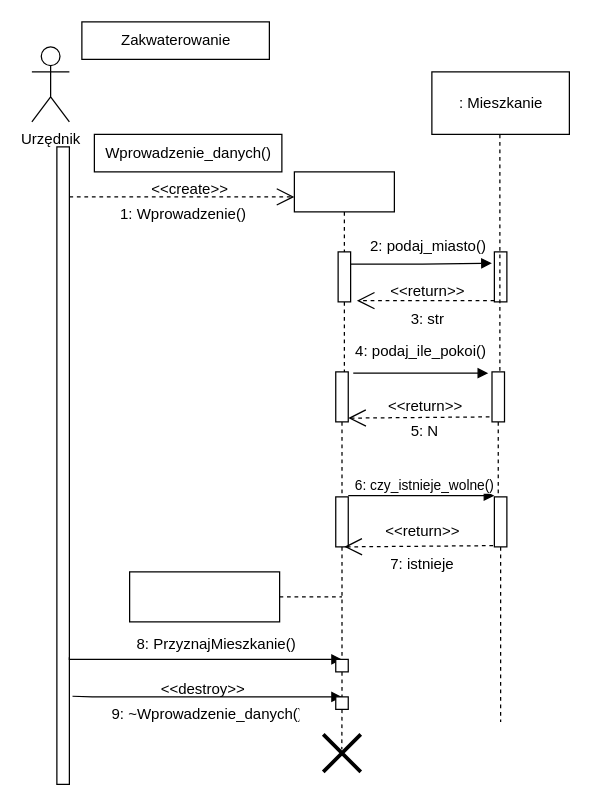
This 591x806 diagram has some shape labels left out. The centre of each missing label's shape, as x and y in pixels:
": Uchodźca" goes at (x=343, y=191).
"Mieszkanie zostało przydzielone" goes at (x=204, y=596).
